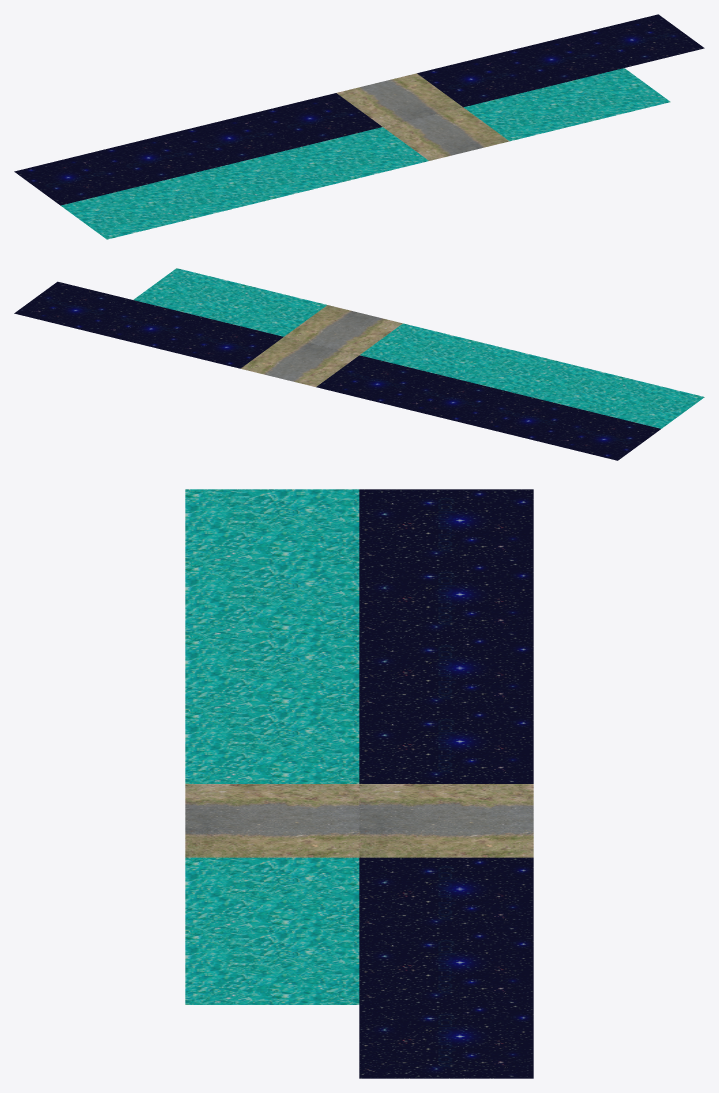
Rendered from ground.gltf.
3 renders of one model, top to bottom at view 1: azimuth 30°, elevation 25°; view 2: azimuth 150°, elevation 25°; view 3: azimuth 270°, elevation 25°, orthographic. The views are drawn at different scales.
Visible parts, largest first — view 1: Plane.001, Plane.008, Plane, Plane.006, Plane.012, Plane.002, Plane.003, Plane.005, Plane.007, Plane.010, Plane.011, Plane.013 (+3 smaller); view 2: Plane.003, Plane.005, Plane.013, Plane, Plane.007, Plane.010, Plane.011, Plane.012, Plane.015, Plane.001, Plane.004, Plane.006 (+3 smaller); view 3: Plane.001, Plane.008, Plane.004, Plane.012, Plane, Plane.002, Plane.003, Plane.005, Plane.006, Plane.007, Plane.010, Plane.011 (+3 smaller).
Boxes of the visible parts, x1=… form: Plane.001: x1=417, y1=53, x2=543, y2=107; Plane.008: x1=175, y1=112, x2=301, y2=166; Plane: x1=256, y1=93, x2=382, y2=146; Plane.006: x1=498, y1=34, x2=623, y2=87; Plane.012: x1=222, y1=146, x2=348, y2=200; Plane.002: x1=337, y1=73, x2=462, y2=126; Plane.003: x1=302, y1=127, x2=428, y2=180; Plane.005: x1=383, y1=107, x2=509, y2=160; Plane.007: x1=578, y1=14, x2=704, y2=67; Plane.010: x1=95, y1=132, x2=220, y2=185; Plane.011: x1=14, y1=152, x2=140, y2=205; Plane.013: x1=141, y1=166, x2=267, y2=219; Plane.003: x1=360, y1=323, x2=478, y2=373; Plane.005: x1=284, y1=305, x2=402, y2=355; Plane.013: x1=511, y1=360, x2=628, y2=410; Plane: x1=316, y1=355, x2=434, y2=405; Plane.007: x1=14, y1=281, x2=132, y2=331; Plane.010: x1=467, y1=392, x2=585, y2=442; Plane.011: x1=542, y1=410, x2=660, y2=460; Plane.012: x1=435, y1=342, x2=553, y2=391; Plane.015: x1=133, y1=268, x2=251, y2=318; Plane.001: x1=165, y1=318, x2=283, y2=368; Plane.004: x1=209, y1=286, x2=326, y2=336; Plane.006: x1=90, y1=300, x2=207, y2=350; Plane.001: x1=359, y1=857, x2=533, y2=931; Plane.008: x1=359, y1=636, x2=533, y2=710; Plane.004: x1=185, y1=857, x2=359, y2=931; Plane.012: x1=185, y1=636, x2=359, y2=710; Plane: x1=359, y1=710, x2=533, y2=783; Plane.002: x1=359, y1=784, x2=533, y2=857; Plane.003: x1=185, y1=710, x2=359, y2=783; Plane.005: x1=185, y1=784, x2=359, y2=857; Plane.006: x1=359, y1=931, x2=533, y2=1004; Plane.007: x1=359, y1=1005, x2=533, y2=1078; Plane.010: x1=359, y1=563, x2=533, y2=636; Plane.011: x1=359, y1=489, x2=533, y2=562.
Bounding box in the file's own units: 80 × 0 × 20.
3 materials, 3 textured.
